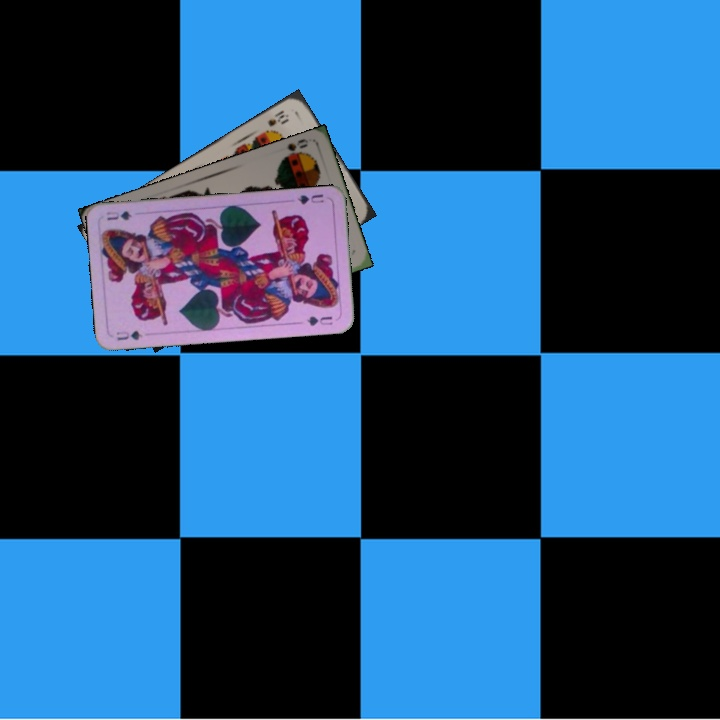GU: (293, 190, 326, 207), (112, 327, 145, 343)
S10: (264, 106, 291, 129)
SO: (277, 135, 311, 164)
